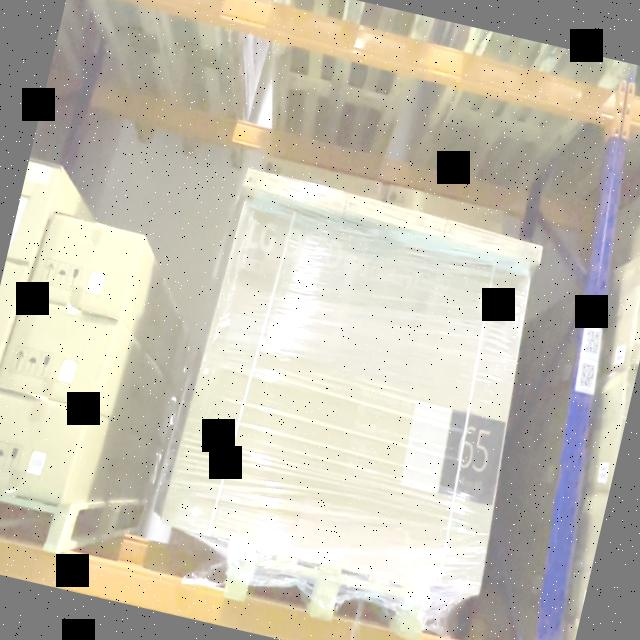box: (172, 205, 530, 584), (3, 304, 108, 408), (32, 219, 136, 314), (0, 390, 79, 499), (243, 169, 347, 215), (344, 194, 447, 239), (445, 220, 543, 262)
